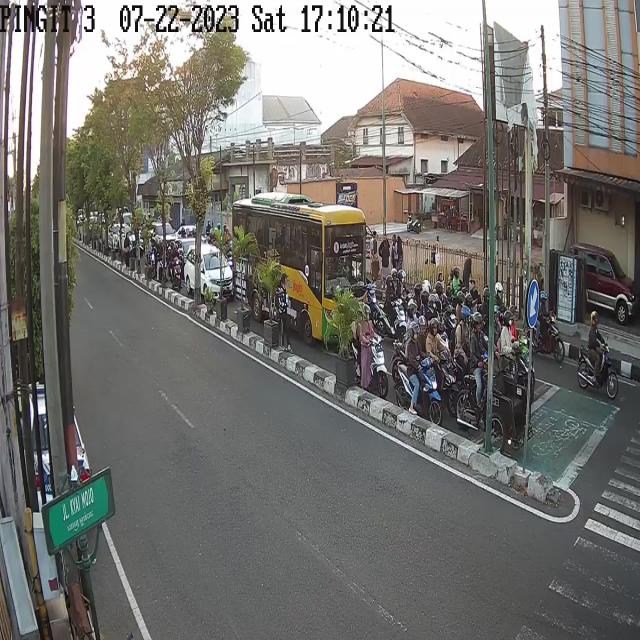bus: (230, 196, 367, 345)
car: (572, 244, 636, 326), (184, 242, 234, 299)
motorcycle: (396, 322, 441, 422), (417, 317, 461, 412), (352, 304, 388, 394), (578, 318, 616, 398), (526, 291, 563, 364), (378, 275, 404, 335), (391, 265, 415, 319), (170, 241, 182, 291)
